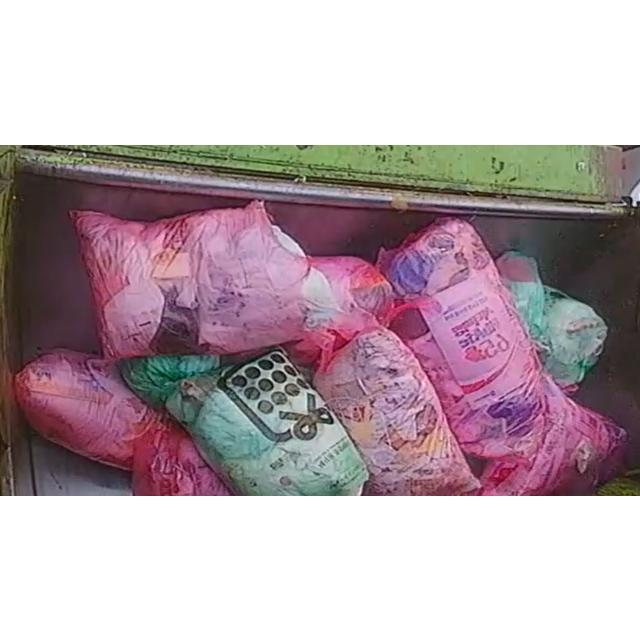general_trashbag: (166, 348, 369, 495), (496, 250, 608, 387)
other_trashbag: (378, 216, 625, 492), (70, 200, 368, 357), (15, 348, 156, 469), (132, 418, 232, 495)
